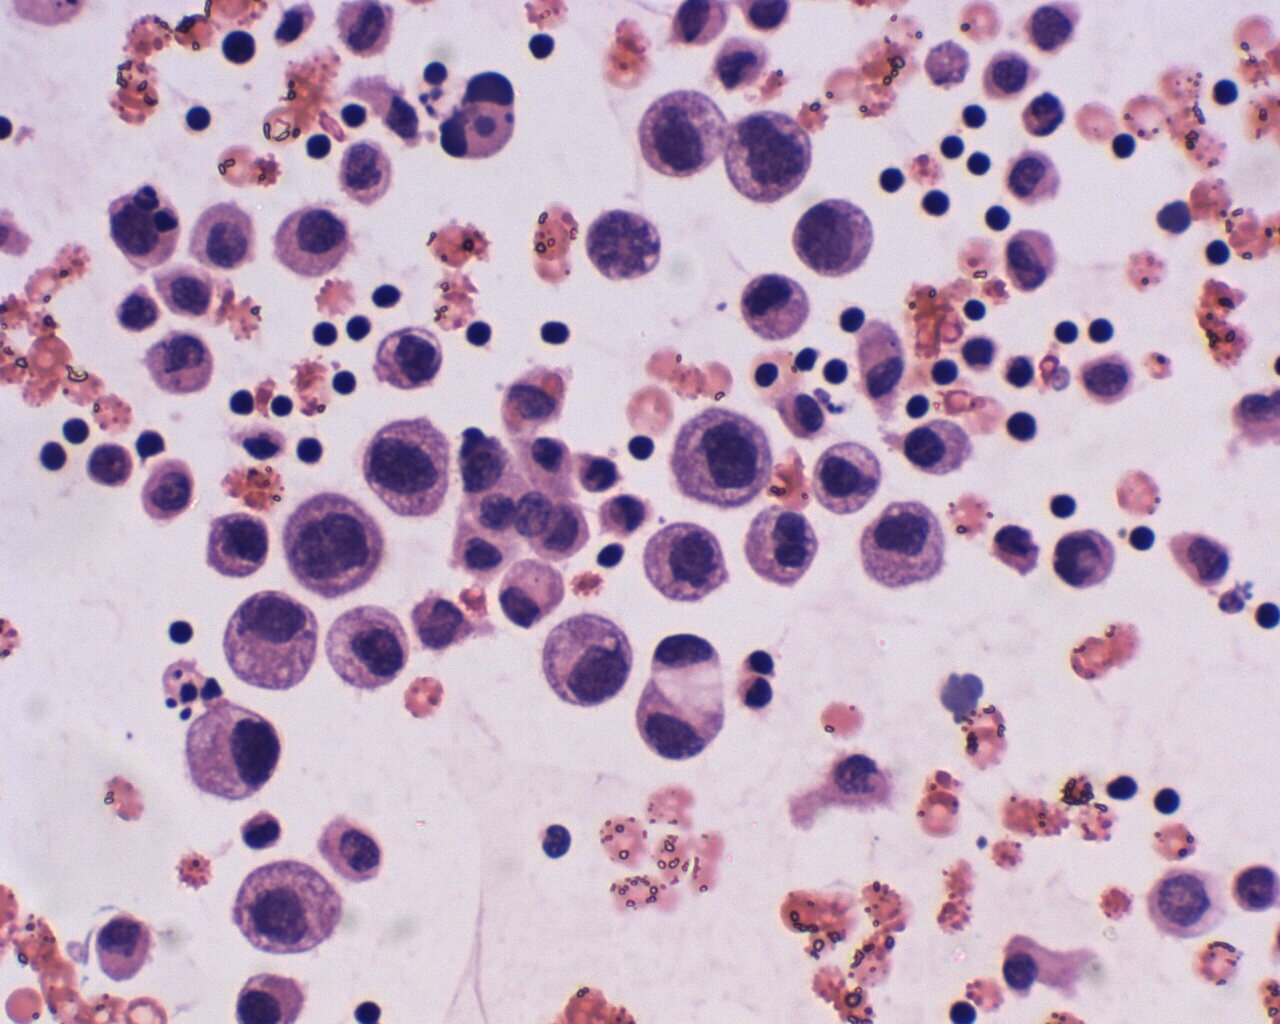ab: (276, 491, 386, 603), (218, 587, 324, 695), (671, 404, 774, 514), (185, 701, 290, 807), (538, 605, 639, 708), (854, 498, 958, 592), (364, 416, 459, 518), (725, 101, 810, 206), (642, 518, 734, 607), (791, 188, 874, 283), (584, 205, 664, 289), (806, 430, 882, 516), (371, 318, 449, 393), (197, 503, 273, 577), (995, 217, 1062, 299), (1051, 521, 1121, 594), (895, 417, 977, 478)
lymph: (1140, 779, 1188, 827), (971, 203, 1014, 239), (160, 614, 200, 649), (1044, 487, 1078, 521)
meso: (276, 206, 354, 278)
